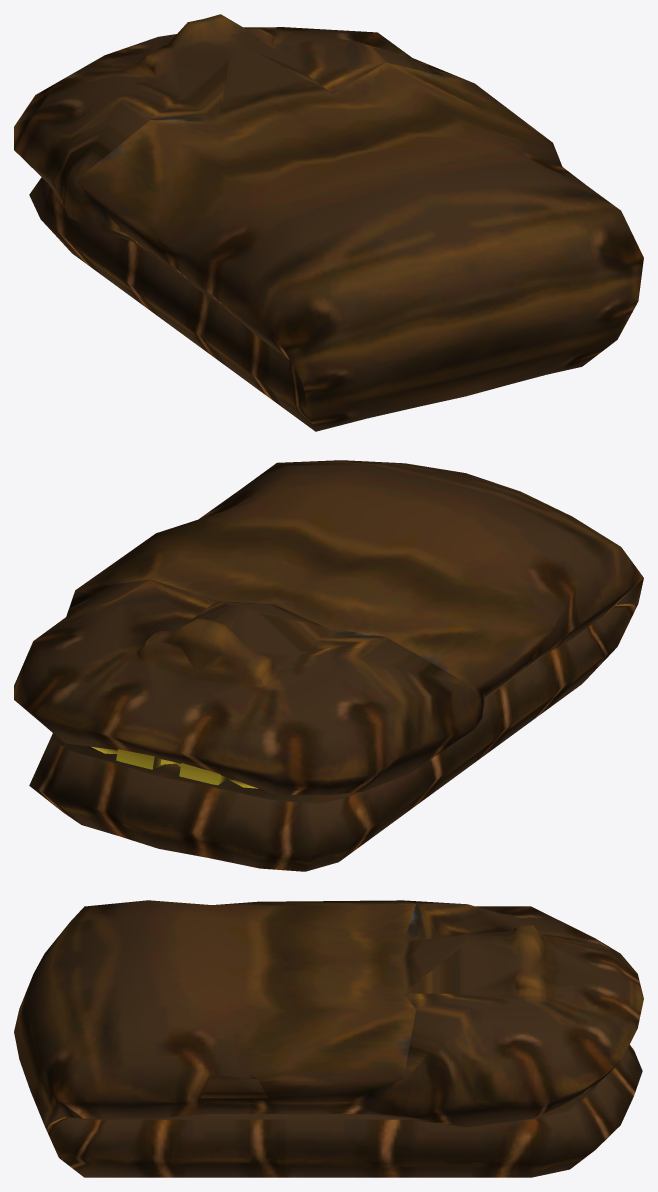
The model's file is WALLET_MODEL.fbx.
3 renders of one model, top to bottom at view 1: azimuth 30°, elevation 25°; view 2: azimuth 150°, elevation 25°; view 3: azimuth 270°, elevation 25°, orthographic. The views are drawn at different scales.
Parts seen in each view (by area): view 1: WALLET_MODEL; view 2: WALLET_MODEL; view 3: WALLET_MODEL.
Boxes of the visible parts, left/top/right/bottom form: WALLET_MODEL: left=14, top=14, right=643, bottom=431; WALLET_MODEL: left=14, top=460, right=643, bottom=871; WALLET_MODEL: left=14, top=900, right=643, bottom=1177.
Bounding box in the file's own units: 7216 × 3474 × 10574.
Materials: 1 (1 with a texture image).
